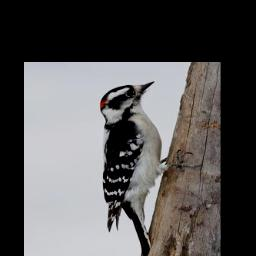Woodpecker: (98, 78, 203, 256)
